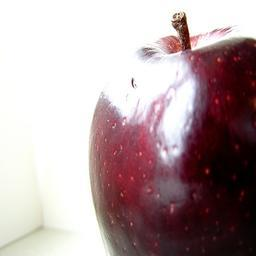apple: (87, 13, 256, 252)
